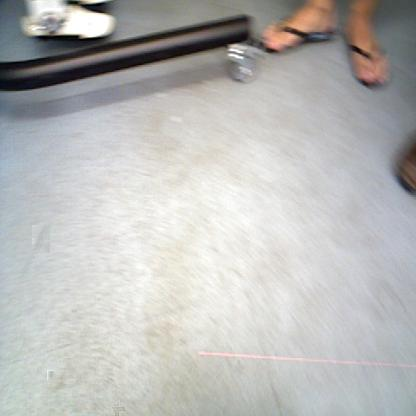mark: (32, 225, 51, 253), (111, 403, 123, 413), (47, 370, 54, 378)
